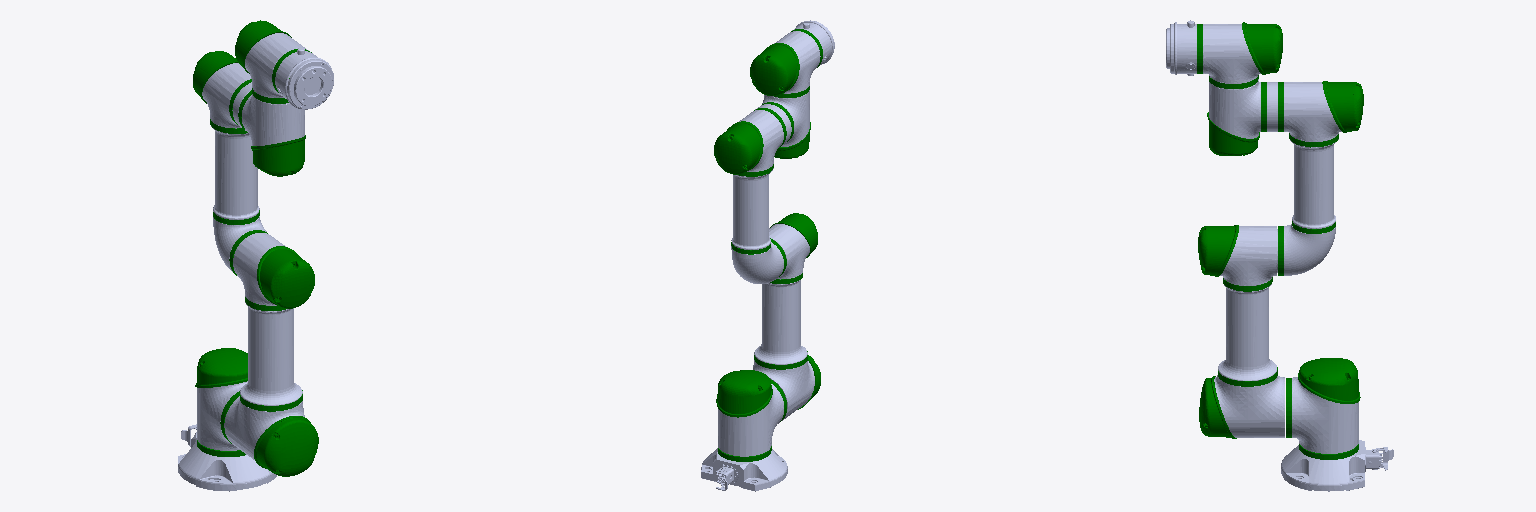
robot.urdf — vscr6:
<?xml version="1.0" encoding="utf-8"?>
<!-- This URDF was automatically created by SolidWorks to URDF Exporter! Originally created by [author] ([email redacted]) 
     Commit Version: 1.6.0-4-g7f85cfe  Build Version: 1.6.7995.38578
     For more information, please see http://wiki.ros.org/sw_urdf_exporter -->
<robot
  name="vscr6">
  <link
    name="base_link">
    <inertial>
      <origin
        xyz="-5.0428E-05 0.0019197 0.017653"
        rpy="0 0 0" />
      <mass
        value="0.46907" />
      <inertia
        ixx="0.00051314"
        ixy="2.6056E-06"
        ixz="-1.7548E-07"
        iyy="0.00052812"
        iyz="-1.3182E-05"
        izz="0.00090536" />
    </inertial>
    <visual>
      <origin
        xyz="0 0 0"
        rpy="0 0 0" />
      <geometry>
        <mesh
          filename="package://vscr6/meshes/base_link.STL" />
      </geometry>
      <material
        name="">
        <color
          rgba="0.79216 0.81961 0.93333 1" />
      </material>
    </visual>
    <collision>
      <origin
        xyz="0 0 0"
        rpy="0 0 0" />
      <geometry>
        <mesh
          filename="package://vscr6/meshes/base_link.STL" />
      </geometry>
    </collision>
  </link>
  <link
    name="joint1_Link">
    <inertial>
      <origin
        xyz="-5.2679E-07 -0.011954 -0.0091154"
        rpy="0 0 0" />
      <mass
        value="0.80997" />
      <inertia
        ixx="0.0012573"
        ixy="-3.7432E-09"
        ixz="4.5862E-09"
        iyy="0.0010572"
        iyz="0.00013038"
        izz="0.0011455" />
    </inertial>
    <visual>
      <origin
        xyz="0 0 0"
        rpy="0 0 0" />
      <geometry>
        <mesh
          filename="package://vscr6/meshes/joint1_Link.STL" />
      </geometry>
      <material
        name="">
        <color
          rgba="0.79216 0.81961 0.93333 1" />
      </material>
    </visual>
    <collision>
      <origin
        xyz="0 0 0"
        rpy="0 0 0" />
      <geometry>
        <mesh
          filename="package://vscr6/meshes/joint1_Link.STL" />
      </geometry>
    </collision>
  </link>
  <joint
    name="joint1"
    type="revolute">
    <origin
      xyz="0 0 0.1095"
      rpy="0 0 0" />
    <parent
      link="base_link" />
    <child
      link="joint1_Link" />
    <axis
      xyz="0 0 1" />
    <limit
      lower="-3.1415"
      upper="3.1415"
      effort="100"
      velocity="10" />
  </joint>
  <link
    name="joint1_x1_Link">
    <inertial>
      <origin
        xyz="-5.654E-05 0.0055654 0.051426"
        rpy="0 0 0" />
      <mass
        value="0.24441" />
      <inertia
        ixx="0.0001565"
        ixy="-1.2509E-07"
        ixz="1.8263E-07"
        iyy="0.00016175"
        iyz="2.2617E-05"
        izz="0.00024408" />
    </inertial>
    <visual>
      <origin
        xyz="0 0 0"
        rpy="0 0 0" />
      <geometry>
        <mesh
          filename="package://vscr6/meshes/joint1_x1_Link.STL" />
      </geometry>
      <material
        name="">
        <color
          rgba="0 0.5 0 1" />
      </material>
    </visual>
    <collision>
      <origin
        xyz="0 0 0"
        rpy="0 0 0" />
      <geometry>
        <mesh
          filename="package://vscr6/meshes/joint1_x1_Link.STL" />
      </geometry>
    </collision>
  </link>
  <joint
    name="joint1_x1"
    type="fixed">
    <origin
      xyz="0 0 0"
      rpy="0 0 0" />
    <parent
      link="joint1_Link" />
    <child
      link="joint1_x1_Link" />
    <axis
      xyz="0 0 0" />
  </joint>
  <link
    name="joint1_x2_Link">
    <inertial>
      <origin
        xyz="2.2529E-16 4.4062E-16 -0.064"
        rpy="0 0 0" />
      <mass
        value="0.062458" />
      <inertia
        ixx="3.4914E-05"
        ixy="8.6667E-34"
        ixz="-1.1868E-19"
        iyy="3.4914E-05"
        iyz="-2.3872E-19"
        izz="6.8985E-05" />
    </inertial>
    <visual>
      <origin
        xyz="0 0 0"
        rpy="0 0 0" />
      <geometry>
        <mesh
          filename="package://vscr6/meshes/joint1_x2_Link.STL" />
      </geometry>
      <material
        name="">
        <color
          rgba="0 0.5 0 1" />
      </material>
    </visual>
    <collision>
      <origin
        xyz="0 0 0"
        rpy="0 0 0" />
      <geometry>
        <mesh
          filename="package://vscr6/meshes/joint1_x2_Link.STL" />
      </geometry>
    </collision>
  </link>
  <joint
    name="joint1_x2"
    type="fixed">
    <origin
      xyz="0 0 0"
      rpy="0 0 0" />
    <parent
      link="joint1_Link" />
    <child
      link="joint1_x2_Link" />
    <axis
      xyz="0 0 0" />
  </joint>
  <link
    name="joint2_Link">
    <inertial>
      <origin
        xyz="3.2685E-07 0.0052 0.11426"
        rpy="0 0 0" />
      <mass
        value="1.9112" />
      <inertia
        ixx="0.0035005"
        ixy="3.1128E-09"
        ixz="-1.1688E-08"
        iyy="0.0033495"
        iyz="8.5671E-05"
        izz="0.0018798" />
    </inertial>
    <visual>
      <origin
        xyz="0 0 0"
        rpy="0 0 0" />
      <geometry>
        <mesh
          filename="package://vscr6/meshes/joint2_Link.STL" />
      </geometry>
      <material
        name="">
        <color
          rgba="0.79216 0.81961 0.93333 1" />
      </material>
    </visual>
    <collision>
      <origin
        xyz="0 0 0"
        rpy="0 0 0" />
      <geometry>
        <mesh
          filename="package://vscr6/meshes/joint2_Link.STL" />
      </geometry>
    </collision>
  </link>
  <joint
    name="joint2"
    type="revolute">
    <origin
      xyz="0 -0.1271 0"
      rpy="0 0 0" />
    <parent
      link="joint1_Link" />
    <child
      link="joint2_Link" />
    <axis
      xyz="0 -1 0" />
    <limit
      lower="-3.1415"
      upper="3.1415"
      effort="100"
      velocity="10" />
  </joint>
  <link
    name="joint2_x1_Link">
    <inertial>
      <origin
        xyz="1.3401E-05 -0.0237 0.11543"
        rpy="0 0 0" />
      <mass
        value="0.65154" />
      <inertia
        ixx="0.00036207"
        ixy="1.8172E-07"
        ixz="-1.1865E-07"
        iyy="0.00053815"
        iyz="9.2295E-06"
        izz="0.000419" />
    </inertial>
    <visual>
      <origin
        xyz="0 0 0"
        rpy="0 0 0" />
      <geometry>
        <mesh
          filename="package://vscr6/meshes/joint2_x1_Link.STL" />
      </geometry>
      <material
        name="">
        <color
          rgba="0 0.5 0 1" />
      </material>
    </visual>
    <collision>
      <origin
        xyz="0 0 0"
        rpy="0 0 0" />
      <geometry>
        <mesh
          filename="package://vscr6/meshes/joint2_x1_Link.STL" />
      </geometry>
    </collision>
  </link>
  <joint
    name="joint2_x1"
    type="fixed">
    <origin
      xyz="0 0 0"
      rpy="0 0 0" />
    <parent
      link="joint2_Link" />
    <child
      link="joint2_x1_Link" />
    <axis
      xyz="0 0 0" />
  </joint>
  <link
    name="joint3_Link">
    <inertial>
      <origin
        xyz="1.3792E-07 0.097191 0.13122"
        rpy="0 0 0" />
      <mass
        value="1.3562" />
      <inertia
        ixx="0.0021706"
        ixy="1.4305E-08"
        ixz="1.5514E-08"
        iyy="0.0020566"
        iyz="-2.8564E-05"
        izz="0.0010001" />
    </inertial>
    <visual>
      <origin
        xyz="0 0 0"
        rpy="0 0 0" />
      <geometry>
        <mesh
          filename="package://vscr6/meshes/joint3_Link.STL" />
      </geometry>
      <material
        name="">
        <color
          rgba="0.79216 0.81961 0.93333 1" />
      </material>
    </visual>
    <collision>
      <origin
        xyz="0 0 0"
        rpy="0 0 0" />
      <geometry>
        <mesh
          filename="package://vscr6/meshes/joint3_Link.STL" />
      </geometry>
    </collision>
  </link>
  <joint
    name="joint3"
    type="revolute">
    <origin
      xyz="0 0 0.27"
      rpy="0 0 0" />
    <parent
      link="joint2_Link" />
    <child
      link="joint3_Link" />
    <axis
      xyz="0 -1 0" />
    <limit
      lower="-3.1415"
      upper="3.1415"
      effort="100"
      velocity="10" />
  </joint>
  <link
    name="joint3_x1_Link">
    <inertial>
      <origin
        xyz="4.1083E-06 0.12806 0.22216"
        rpy="0 0 0" />
      <mass
        value="0.30778" />
      <inertia
        ixx="0.00014114"
        ixy="-4.4352E-10"
        ixz="-4.0819E-09"
        iyy="0.00019153"
        iyz="1.3389E-05"
        izz="0.00016813" />
    </inertial>
    <visual>
      <origin
        xyz="0 0 0"
        rpy="0 0 0" />
      <geometry>
        <mesh
          filename="package://vscr6/meshes/joint3_x1_Link.STL" />
      </geometry>
      <material
        name="">
        <color
          rgba="0 0.5 0 1" />
      </material>
    </visual>
    <collision>
      <origin
        xyz="0 0 0"
        rpy="0 0 0" />
      <geometry>
        <mesh
          filename="package://vscr6/meshes/joint3_x1_Link.STL" />
      </geometry>
    </collision>
  </link>
  <joint
    name="joint3_x1"
    type="fixed">
    <origin
      xyz="0 0 0"
      rpy="0 0 0" />
    <parent
      link="joint3_Link" />
    <child
      link="joint3_x1_Link" />
    <axis
      xyz="0 0 0" />
  </joint>
  <link
    name="joint4_Link">
    <inertial>
      <origin
        xyz="6.1161E-07 -0.10425 0.0046846"
        rpy="0 0 0" />
      <mass
        value="0.61768" />
      <inertia
        ixx="0.00055793"
        ixy="2.8317E-09"
        ixz="-8.8693E-10"
        iyy="0.00054324"
        iyz="4.8876E-05"
        izz="0.00049913" />
    </inertial>
    <visual>
      <origin
        xyz="0 0 0"
        rpy="0 0 0" />
      <geometry>
        <mesh
          filename="package://vscr6/meshes/joint4_Link.STL" />
      </geometry>
      <material
        name="">
        <color
          rgba="0.79216 0.81961 0.93333 1" />
      </material>
    </visual>
    <collision>
      <origin
        xyz="0 0 0"
        rpy="0 0 0" />
      <geometry>
        <mesh
          filename="package://vscr6/meshes/joint4_Link.STL" />
      </geometry>
    </collision>
  </link>
  <joint
    name="joint4"
    type="revolute">
    <origin
      xyz="0 0.1038 0.248"
      rpy="0 0 0" />
    <parent
      link="joint3_Link" />
    <child
      link="joint4_Link" />
    <axis
      xyz="0 -1 0" />
    <limit
      lower="-3.1415"
      upper="3.1415"
      effort="100"
      velocity="10" />
  </joint>
  <link
    name="joint4_x1_Link">
    <inertial>
      <origin
        xyz="-4.6917E-06 -0.12106 -0.027285"
        rpy="0 0 0" />
      <mass
        value="0.27326" />
      <inertia
        ixx="0.00013057"
        ixy="-2.1878E-09"
        ixz="-7.557E-10"
        iyy="0.00014782"
        iyz="1.3389E-05"
        izz="0.00018061" />
    </inertial>
    <visual>
      <origin
        xyz="0 0 0"
        rpy="0 0 0" />
      <geometry>
        <mesh
          filename="package://vscr6/meshes/joint4_x1_Link.STL" />
      </geometry>
      <material
        name="">
        <color
          rgba="0 0.5 0 1" />
      </material>
    </visual>
    <collision>
      <origin
        xyz="0 0 0"
        rpy="0 0 0" />
      <geometry>
        <mesh
          filename="package://vscr6/meshes/joint4_x1_Link.STL" />
      </geometry>
    </collision>
  </link>
  <joint
    name="joint4_x1"
    type="fixed">
    <origin
      xyz="0 0 0"
      rpy="0 0 0" />
    <parent
      link="joint4_Link" />
    <child
      link="joint4_x1_Link" />
    <axis
      xyz="0 0 0" />
  </joint>
  <link
    name="joint5_Link">
    <inertial>
      <origin
        xyz="-8.5464E-07 -0.0062257 0.09149"
        rpy="0 0 0" />
      <mass
        value="0.46479" />
      <inertia
        ixx="0.00049014"
        ixy="-4.5518E-10"
        ixz="2.4859E-09"
        iyy="0.00043134"
        iyz="4.8874E-05"
        izz="0.00043721" />
    </inertial>
    <visual>
      <origin
        xyz="0 0 0"
        rpy="0 0 0" />
      <geometry>
        <mesh
          filename="package://vscr6/meshes/joint5_Link.STL" />
      </geometry>
      <material
        name="">
        <color
          rgba="0.79216 0.81961 0.93333 1" />
      </material>
    </visual>
    <collision>
      <origin
        xyz="0 0 0"
        rpy="0 0 0" />
      <geometry>
        <mesh
          filename="package://vscr6/meshes/joint5_Link.STL" />
      </geometry>
    </collision>
  </link>
  <joint
    name="joint5"
    type="revolute">
    <origin
      xyz="0 -0.1257 0"
      rpy="0 0 0" />
    <parent
      link="joint4_Link" />
    <child
      link="joint5_Link" />
    <axis
      xyz="0 0 1" />
    <limit
      lower="-3.1415"
      upper="3.1415"
      effort="100"
      velocity="10" />
  </joint>
  <link
    name="joint5_x1_Link">
    <inertial>
      <origin
        xyz="6.8287E-06 0.04417 0.10408"
        rpy="0 0 0" />
      <mass
        value="0.20208" />
      <inertia
        ixx="0.00010347"
        ixy="-1.3774E-09"
        ixz="-6.8418E-10"
        iyy="0.00014394"
        iyz="1.3388E-05"
        izz="0.00010431" />
    </inertial>
    <visual>
      <origin
        xyz="0 0 0"
        rpy="0 0 0" />
      <geometry>
        <mesh
          filename="package://vscr6/meshes/joint5_x1_Link.STL" />
      </geometry>
      <material
        name="">
        <color
          rgba="0 0.5 0 1" />
      </material>
    </visual>
    <collision>
      <origin
        xyz="0 0 0"
        rpy="0 0 0" />
      <geometry>
        <mesh
          filename="package://vscr6/meshes/joint5_x1_Link.STL" />
      </geometry>
    </collision>
  </link>
  <joint
    name="joint5_x1"
    type="fixed">
    <origin
      xyz="0 0 0"
      rpy="0 0 0" />
    <parent
      link="joint5_Link" />
    <child
      link="joint5_x1_Link" />
    <axis
      xyz="0 0 0" />
  </joint>
  <link
    name="joint6_Link">
    <inertial>
      <origin
        xyz="9.6535E-05 0.00028572 -0.016515"
        rpy="0 0 0" />
      <mass
        value="0.065416" />
      <inertia
        ixx="3.1992E-05"
        ixy="-1.1746E-09"
        ixz="-2.0078E-11"
        iyy="3.1414E-05"
        iyz="-9.5152E-08"
        izz="5.9343E-05" />
    </inertial>
    <visual>
      <origin
        xyz="0 0 0"
        rpy="0 0 0" />
      <geometry>
        <mesh
          filename="package://vscr6/meshes/joint6_Link.STL" />
      </geometry>
      <material
        name="">
        <color
          rgba="0.79216 0.81961 0.93333 1" />
      </material>
    </visual>
    <collision>
      <origin
        xyz="0 0 0"
        rpy="0 0 0" />
      <geometry>
        <mesh
          filename="package://vscr6/meshes/joint6_Link.STL" />
      </geometry>
    </collision>
  </link>
  <joint
    name="joint6"
    type="revolute">
    <origin
      xyz="0 -0.105 0.1"
      rpy="-1.5708 0 -3.1416" />
    <parent
      link="joint5_Link" />
    <child
      link="joint6_Link" />
    <axis
      xyz="0 0 1" />
    <limit
      lower="-3.1415"
      upper="3.1415"
      effort="100"
      velocity="10" />
  </joint>
</robot>

--- Facts derived from the render (not from the file) ---
The picture shows the robot from 3 angles, left to right: view 1: azimuth 30°, elevation 25°; view 2: azimuth 150°, elevation 25°; view 3: azimuth 270°, elevation 25°; orthographic projection.
Model vscr6 with 13 links and 12 joints (6 revolute, 6 fixed), rooted at base_link, posed all joints at 0.
Links seen in each view (by area): view 1: joint2_Link, joint2_x1_Link, joint3_Link, base_link, joint4_Link, joint6_Link, joint4_x1_Link, joint1_Link, joint5_Link, joint1_x1_Link, joint3_x1_Link, joint5_x1_Link; view 2: joint2_Link, joint3_Link, joint1_Link, joint3_x1_Link, base_link, joint1_x1_Link, joint5_x1_Link, joint2_x1_Link, joint4_Link, joint5_Link, joint4_x1_Link, joint6_Link; view 3: joint2_Link, joint3_Link, joint2_x1_Link, joint1_Link, base_link, joint4_Link, joint5_Link, joint3_x1_Link, joint1_x1_Link, joint5_x1_Link, joint4_x1_Link, joint6_Link.
Boxes of the visible links, bbox=[...] form: joint2_Link: bbox=[224, 233, 304, 459]; joint2_x1_Link: bbox=[220, 230, 318, 476]; joint3_Link: bbox=[202, 63, 266, 271]; base_link: bbox=[178, 424, 276, 491]; joint4_Link: bbox=[232, 82, 304, 145]; joint6_Link: bbox=[275, 48, 333, 109]; joint4_x1_Link: bbox=[238, 88, 305, 176]; joint1_Link: bbox=[197, 381, 247, 450]; joint5_Link: bbox=[245, 33, 308, 97]; joint1_x1_Link: bbox=[195, 348, 247, 387]; joint3_x1_Link: bbox=[193, 51, 259, 224]; joint5_x1_Link: bbox=[235, 20, 311, 92]; joint2_Link: bbox=[753, 224, 814, 420]; joint3_Link: bbox=[731, 110, 783, 283]; joint1_Link: bbox=[718, 384, 783, 456]; joint3_x1_Link: bbox=[714, 108, 786, 254]; base_link: bbox=[701, 448, 787, 491]; joint1_x1_Link: bbox=[716, 370, 772, 417]; joint5_x1_Link: bbox=[750, 29, 822, 95]; joint2_x1_Link: bbox=[754, 213, 820, 421]; joint4_Link: bbox=[755, 90, 809, 146]; joint5_Link: bbox=[774, 31, 820, 93]; joint4_x1_Link: bbox=[762, 86, 810, 158]; joint6_Link: bbox=[792, 20, 834, 64]; joint2_Link: bbox=[1214, 226, 1284, 437]; joint3_Link: bbox=[1277, 82, 1341, 275]; joint2_x1_Link: bbox=[1198, 225, 1291, 438]; joint1_Link: bbox=[1292, 377, 1358, 453]; base_link: bbox=[1281, 440, 1393, 491]; joint4_Link: bbox=[1209, 79, 1277, 138]; joint5_Link: bbox=[1203, 24, 1260, 83]; joint3_x1_Link: bbox=[1278, 81, 1363, 233]; joint1_x1_Link: bbox=[1298, 358, 1360, 403]; joint5_x1_Link: bbox=[1197, 22, 1282, 74]; joint4_x1_Link: bbox=[1207, 75, 1266, 155]; joint6_Link: bbox=[1166, 20, 1196, 75].
Bounding box of the posed robot: 0.15 × 0.3548 × 0.776 m (x, y, z).
Meshes: 13 distinct files referenced, 13 mesh visuals loaded (13 binary STL).